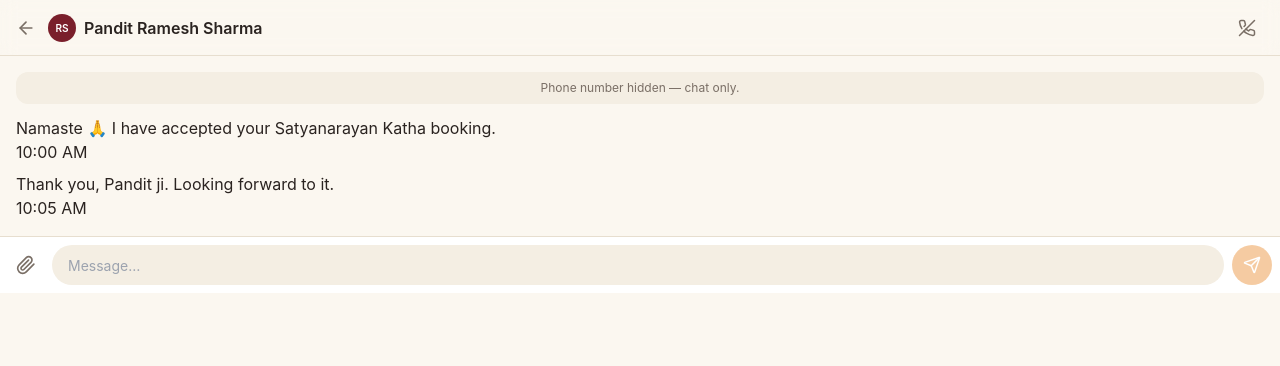
Test case: ChatThreadScreen › shows messages and sends a new one
Expected: the text "Thank you, Pandit ji. Looking forward to it." is shown, [16,174,334,194]
Step 1. Type "Great, thanks!" into the field labelled "Message" → (638, 265), box [52,245,1224,285]
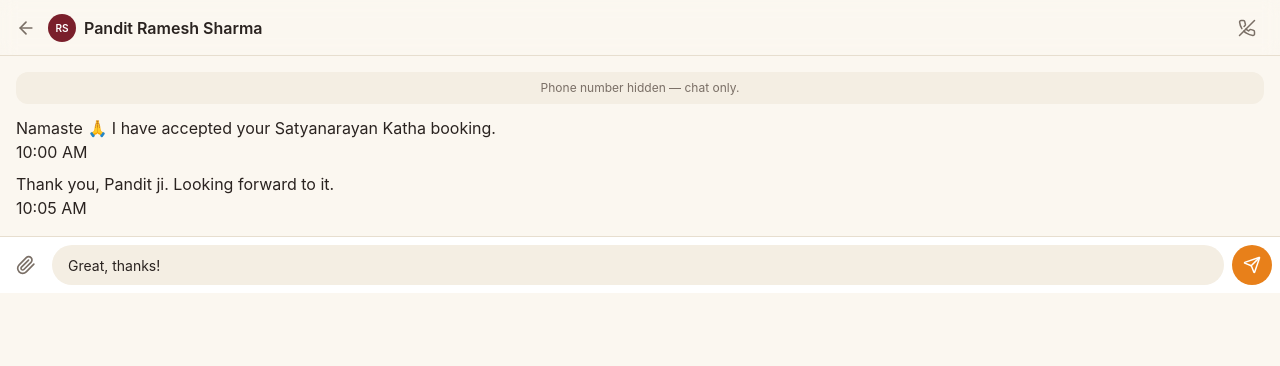
Step 2. Click the button named "Send" → (1252, 265), box [1232,245,1272,285]
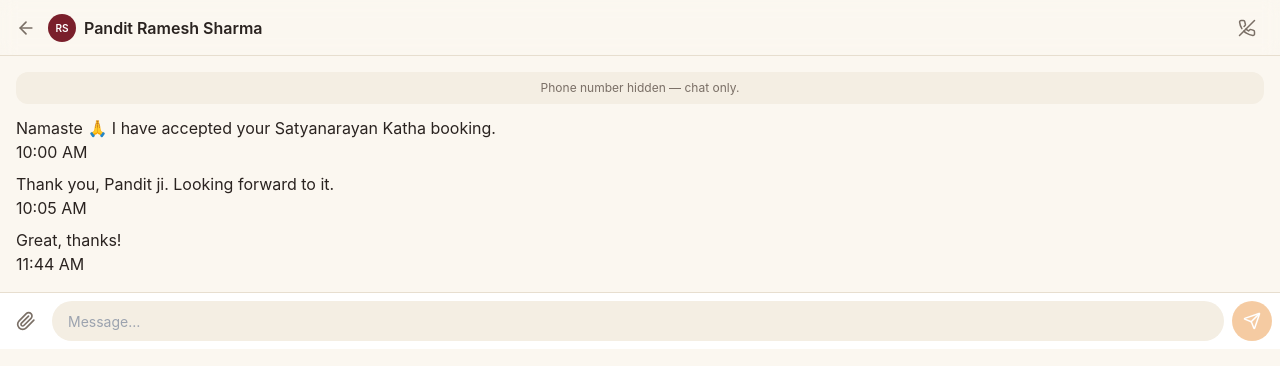
Result: the text "Great, thanks!" is shown at [16,230,122,250]
